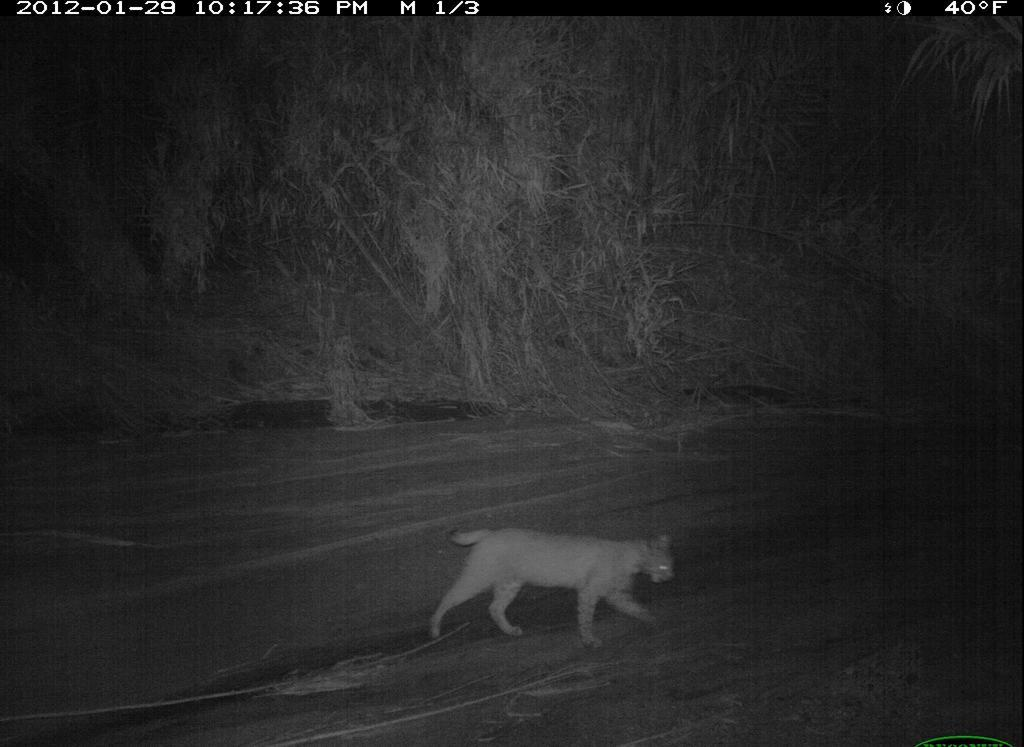bobcat: (425, 524, 683, 658)
